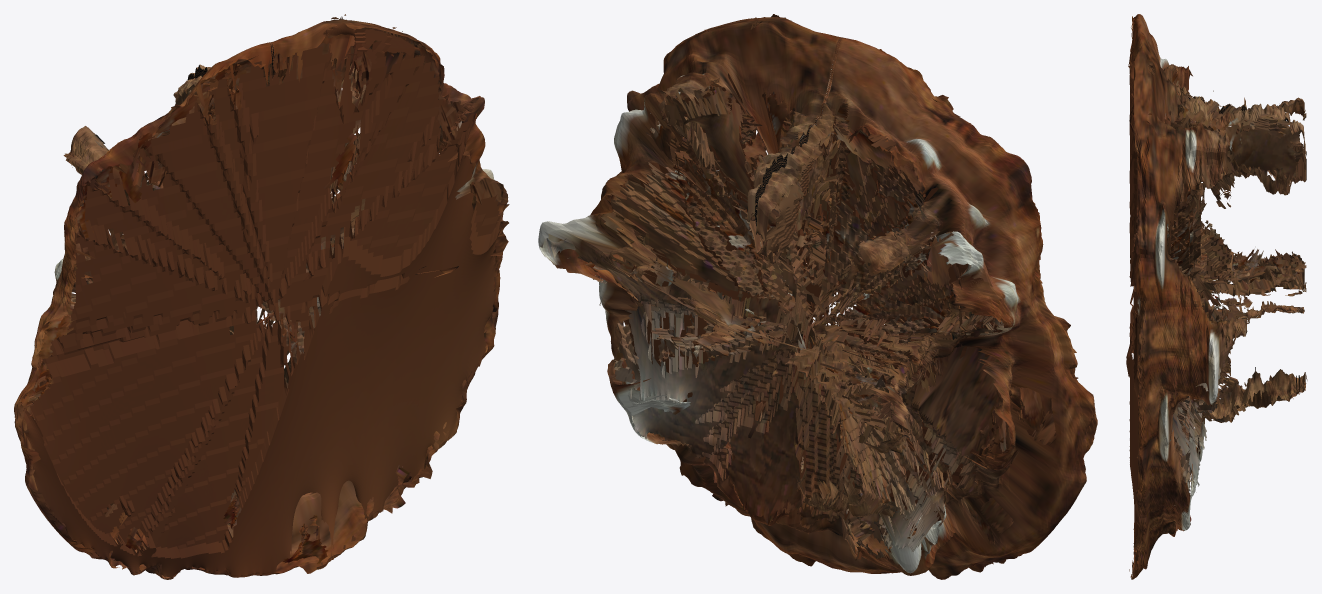
Rendered from snap48_mesh.glb.
3 views of the same model, side by side, from view 1: azimuth 30°, elevation 25°; view 2: azimuth 150°, elevation 25°; view 3: azimuth 270°, elevation 25° (orthographic). The views are drawn at different scales.
Parts seen in each view (by area): view 1: fill, ipn; view 2: fill, ipn; view 3: ipn, fill.
Part boxes in pixels (x1=…): fill: x1=20, y1=14, x2=502, y2=579; ipn: x1=14, y1=19, x2=509, y2=579; fill: x1=544, y1=14, x2=1078, y2=566; ipn: x1=538, y1=17, x2=1097, y2=579; ipn: x1=1131, y1=14, x2=1306, y2=579; fill: x1=1126, y1=24, x2=1307, y2=577.
Size of the model in its own units: 1.94 by 1.94 by 0.5987.
Materials: 2 (1 with a texture image).
